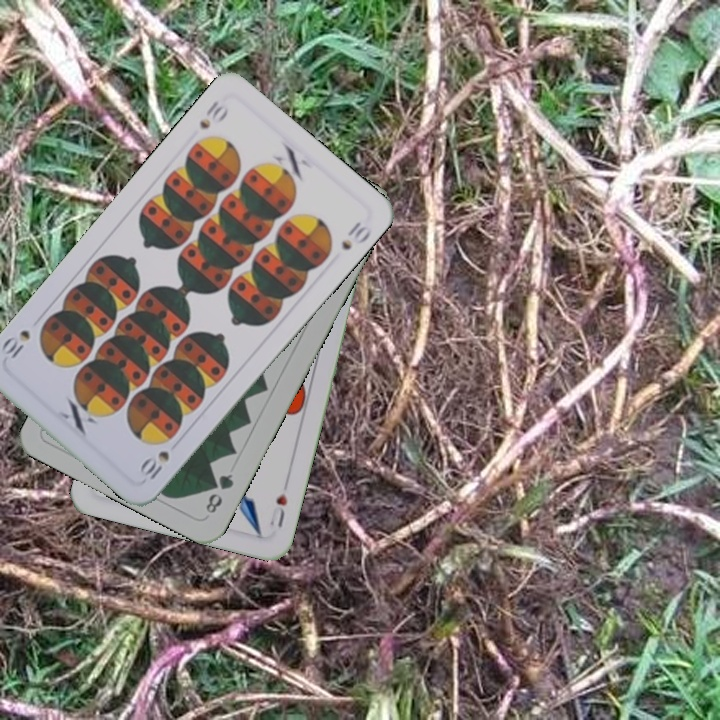G8: (201, 470, 237, 517)
HU: (266, 489, 290, 530)
S10: (195, 96, 232, 132), (138, 446, 172, 483)
